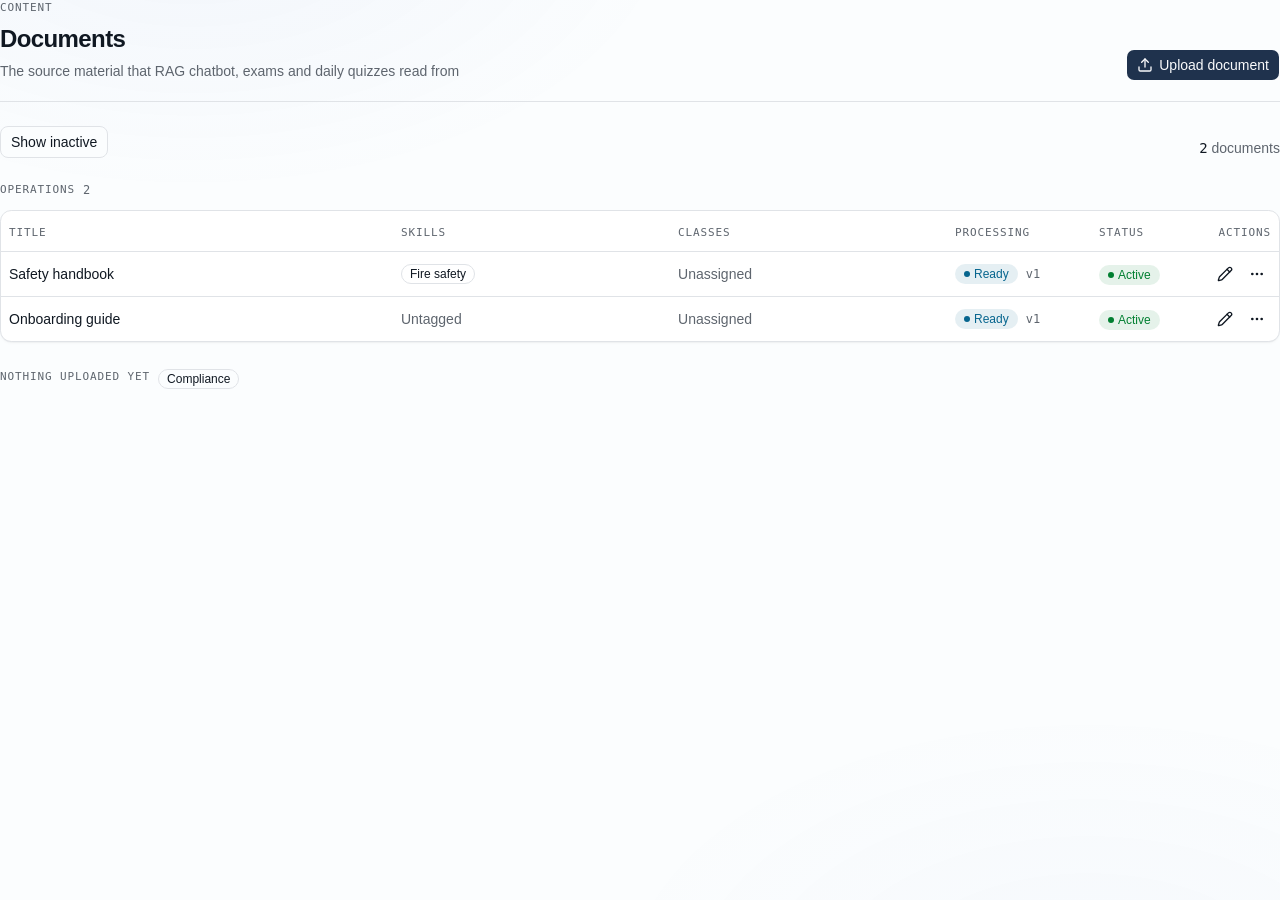
Scenario: DocumentsPage edit and delete › opens the skills dialog on the document's current tags
expect the link "Safety handbook" is shown: met, box [9,266,114,282]
What coordinates should you click on to do the following:
click the button named "Actions for"
I would click on:
 (1257, 274)
Its box is [1243,260,1271,288].
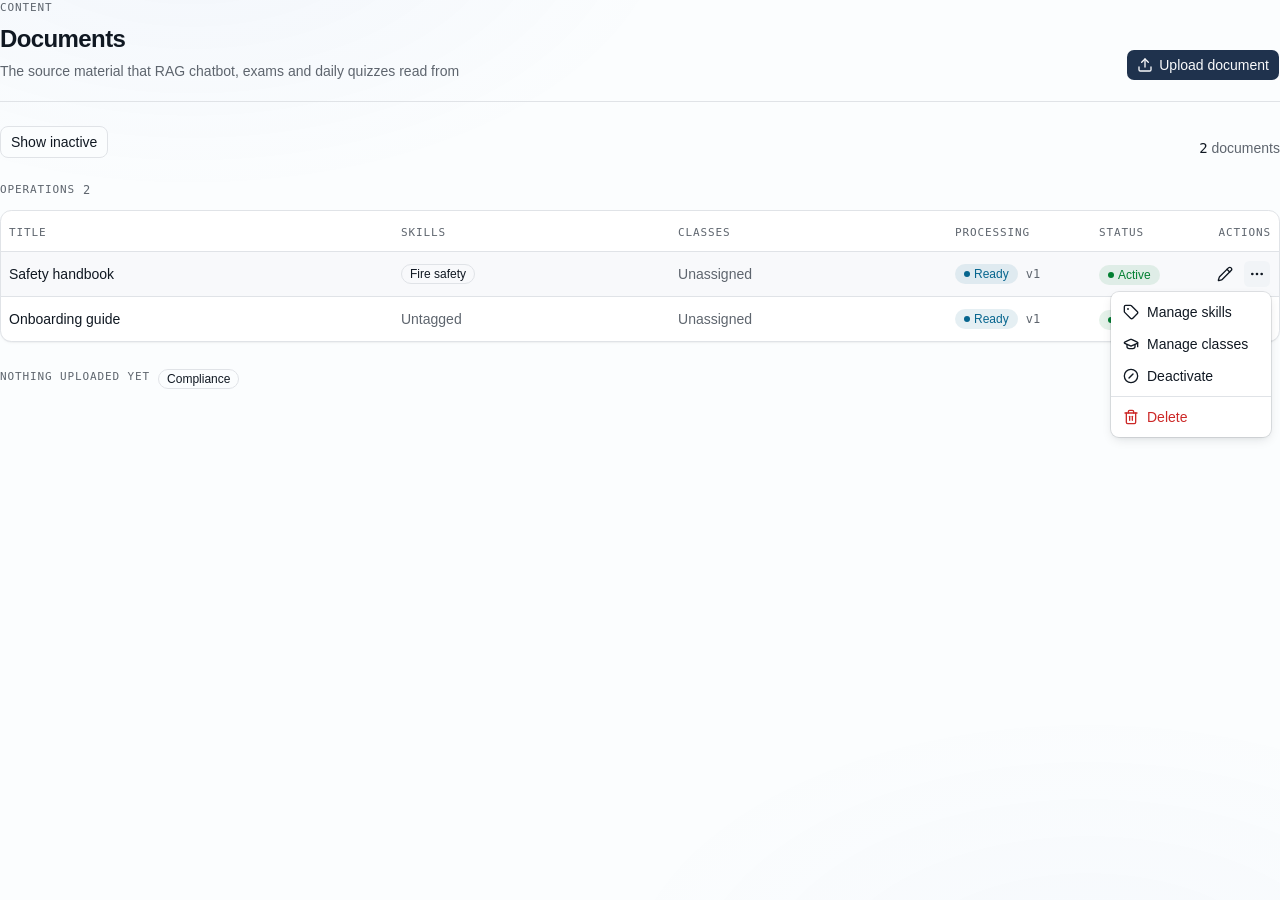
What coordinates should you click on to do the following:
click the menu item "Manage skills"
I would click on:
 (1177, 312)
Its box is [1123,304,1232,320].
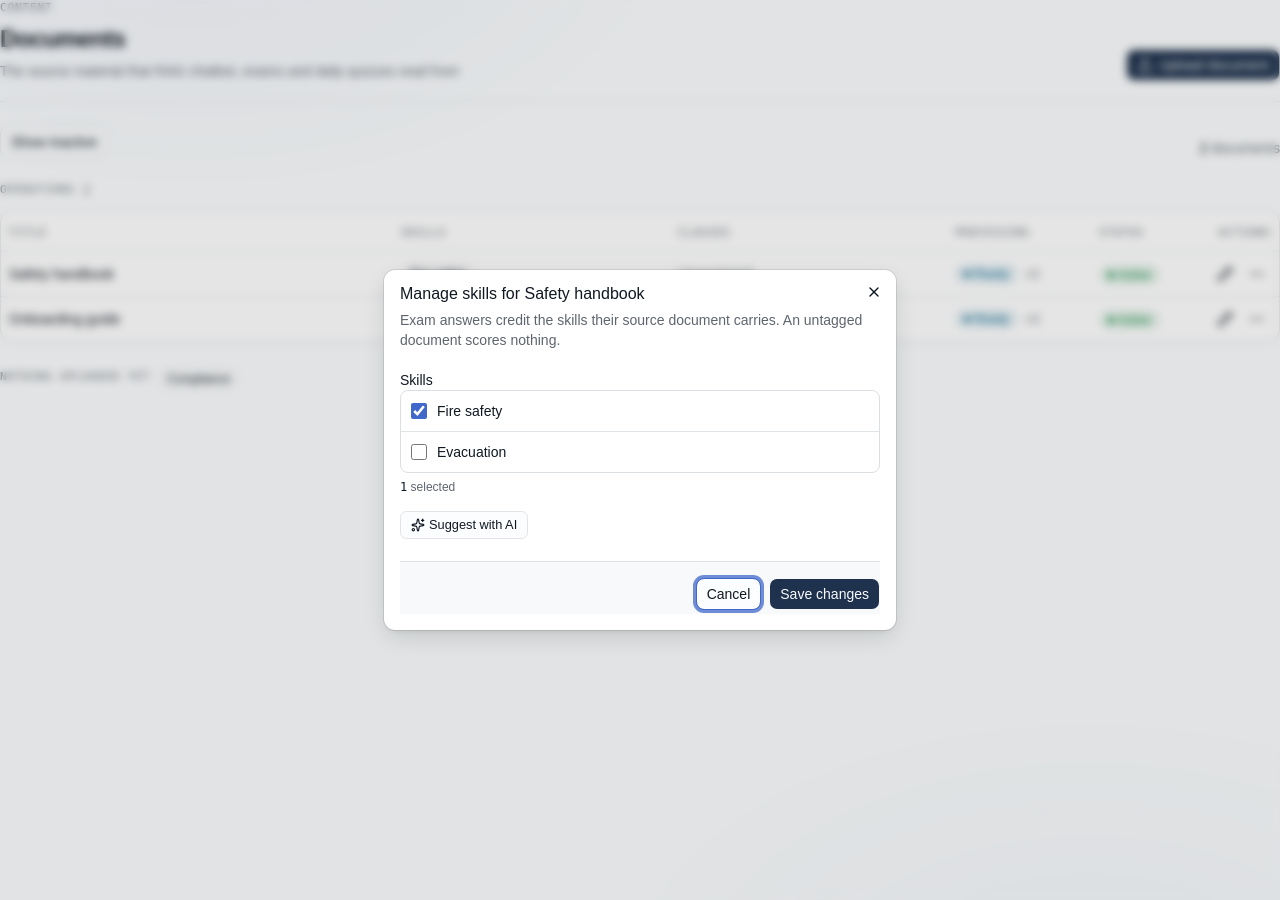
expect the checkbox labelled "Fire safety" is checked: met, box [411,403,427,419]
expect the checkbox labelled "Evacuation" is not checked: met, box [411,444,427,460]
